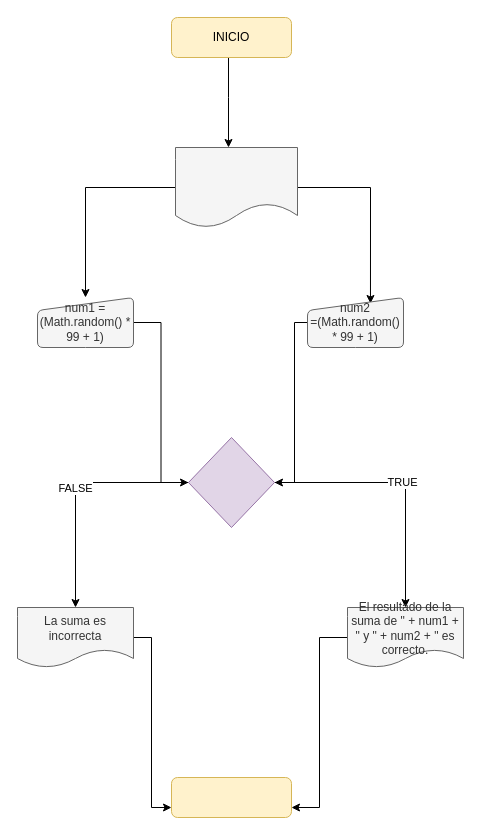
Image size: 481x835. Some labels were removed from this diagram. Here are the shapes that lost their labels. From the top down, the centre of each, then its label:
pixel 236 187: Deme la suma de los siguientes dos números: " + num1 + " y " + num2
pixel 231 482: sumausuario == (num1 + num2)
pixel 231 797: FIN
